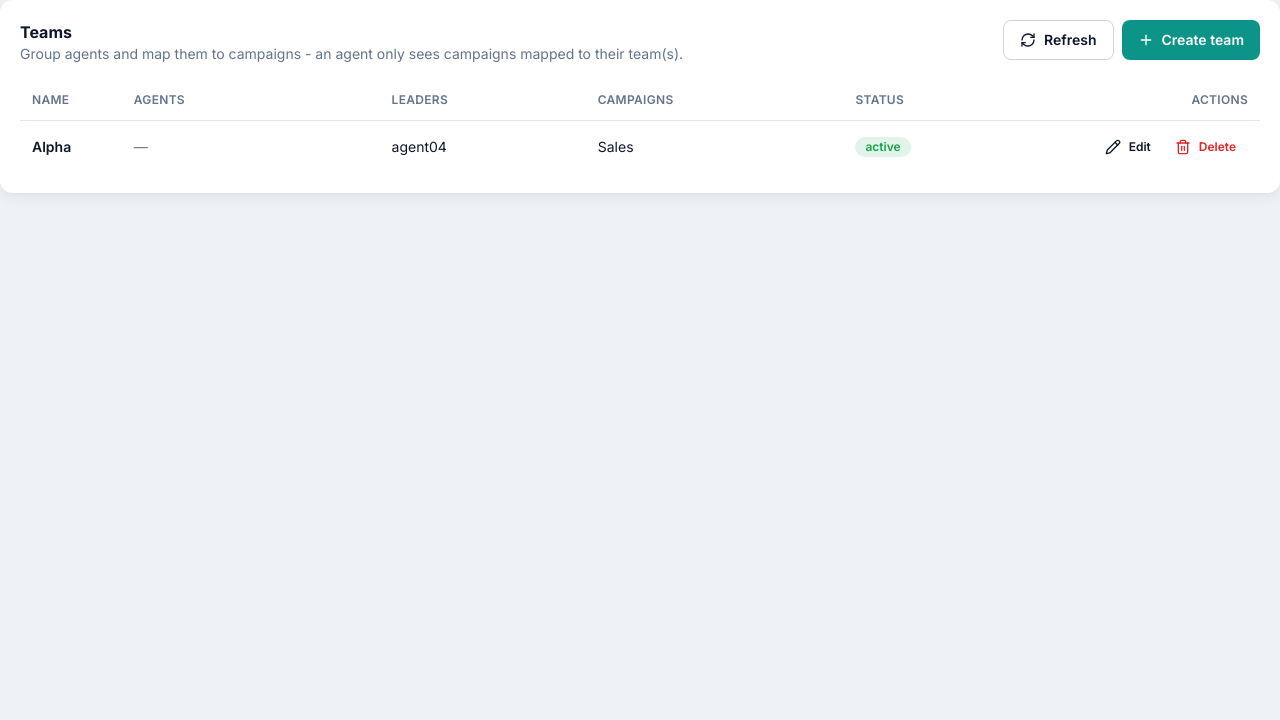
Test: Teams › deletes a team after confirming, and shows a failure
The width and height of the screenshot is (1280, 720).
Click the button with aria-label "Delete Alpha". click: (1205, 146)
box: [1163,130,1248,162]
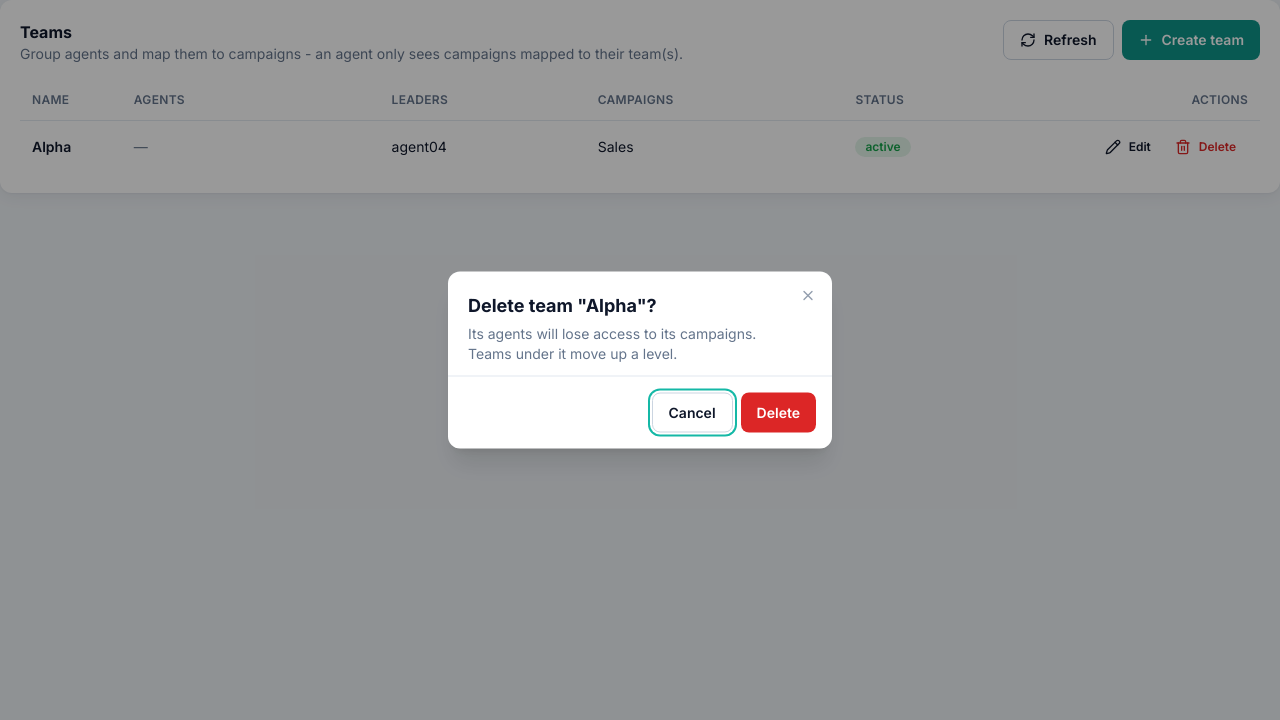
Result: the dialog shows "Its agents will lose access to its campaigns. Teams under it move up a level." at [468,324,756,362]
Click the button "Delete". click: (778, 412)
box: [741,392,816,432]
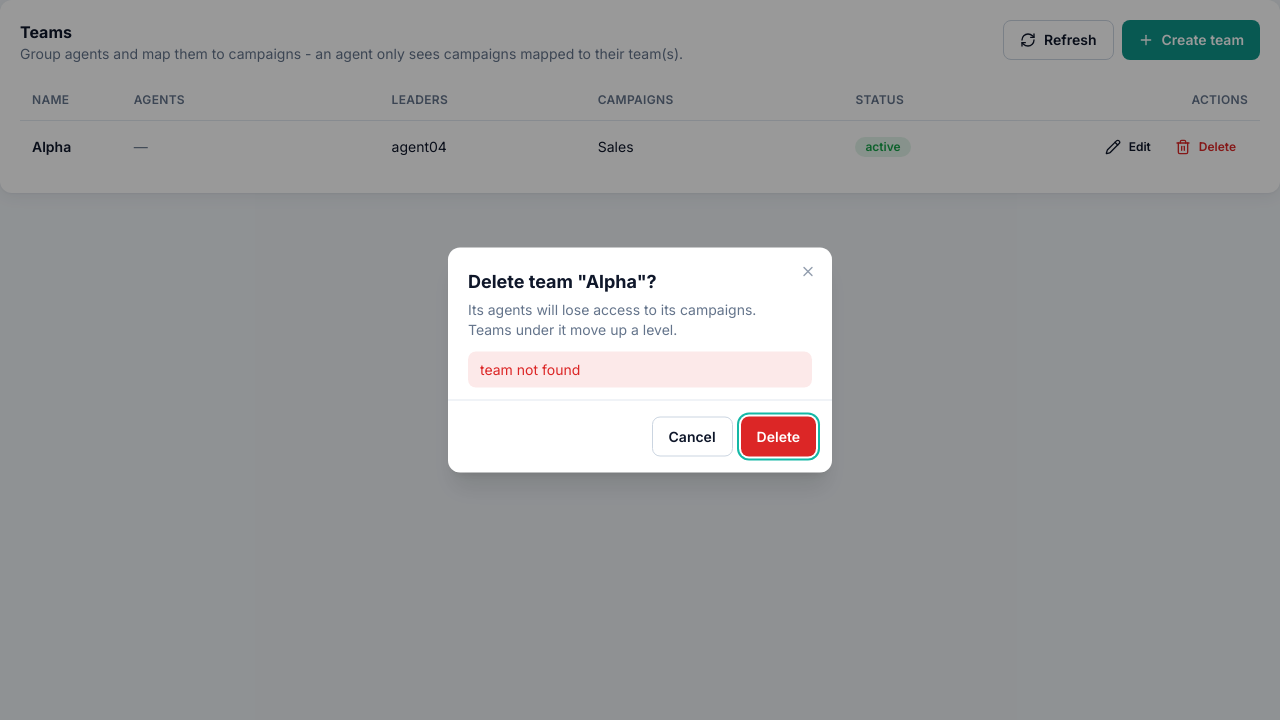
Result: the message reads "team not found" at [480,360,580,378]
